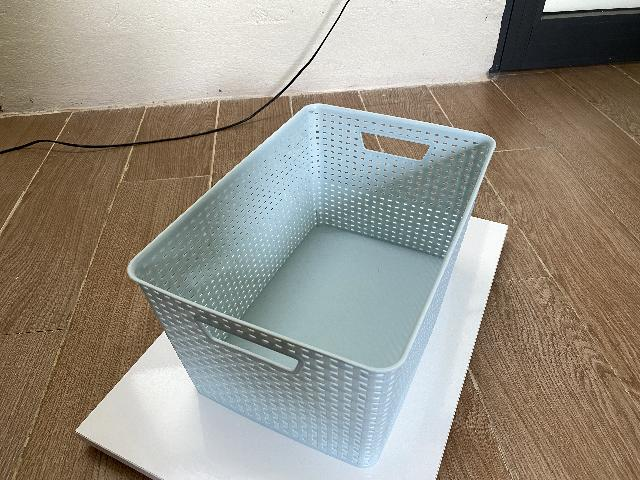cart: (127, 104, 498, 470)
